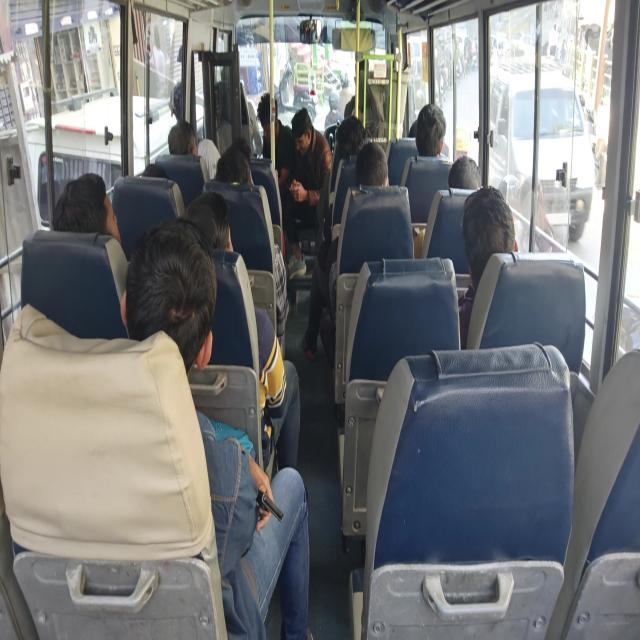person: (134, 234, 235, 360), (52, 172, 126, 252), (471, 192, 524, 278), (182, 186, 236, 260), (217, 156, 263, 208), (286, 115, 320, 172), (339, 121, 380, 165), (412, 118, 446, 170), (449, 156, 494, 192), (255, 92, 285, 140), (166, 130, 209, 161), (168, 86, 201, 118), (135, 160, 171, 186), (398, 117, 426, 149), (367, 161, 393, 195), (224, 138, 264, 157)
